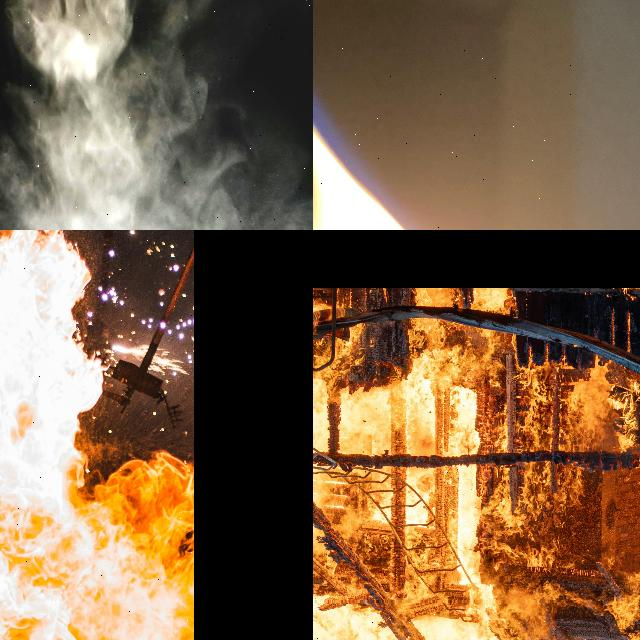fire: (0, 230, 193, 640), (330, 306, 640, 373), (330, 450, 640, 468)
smoke: (0, 0, 313, 230)
